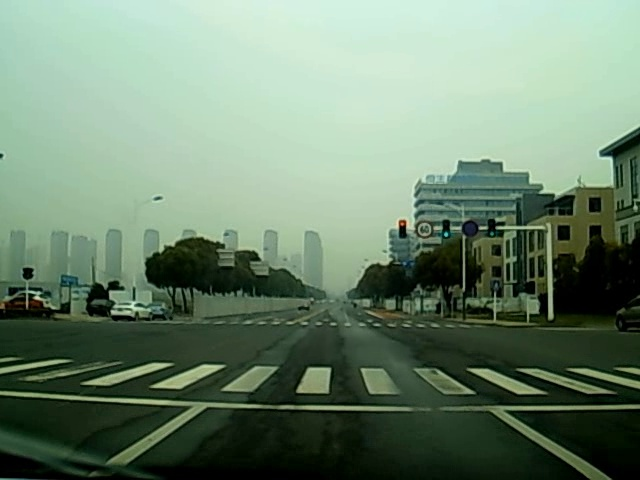Traffic_Light_go: (486, 220, 496, 241), (442, 218, 450, 241)
Traffic_Light_stop: (399, 220, 407, 239)
